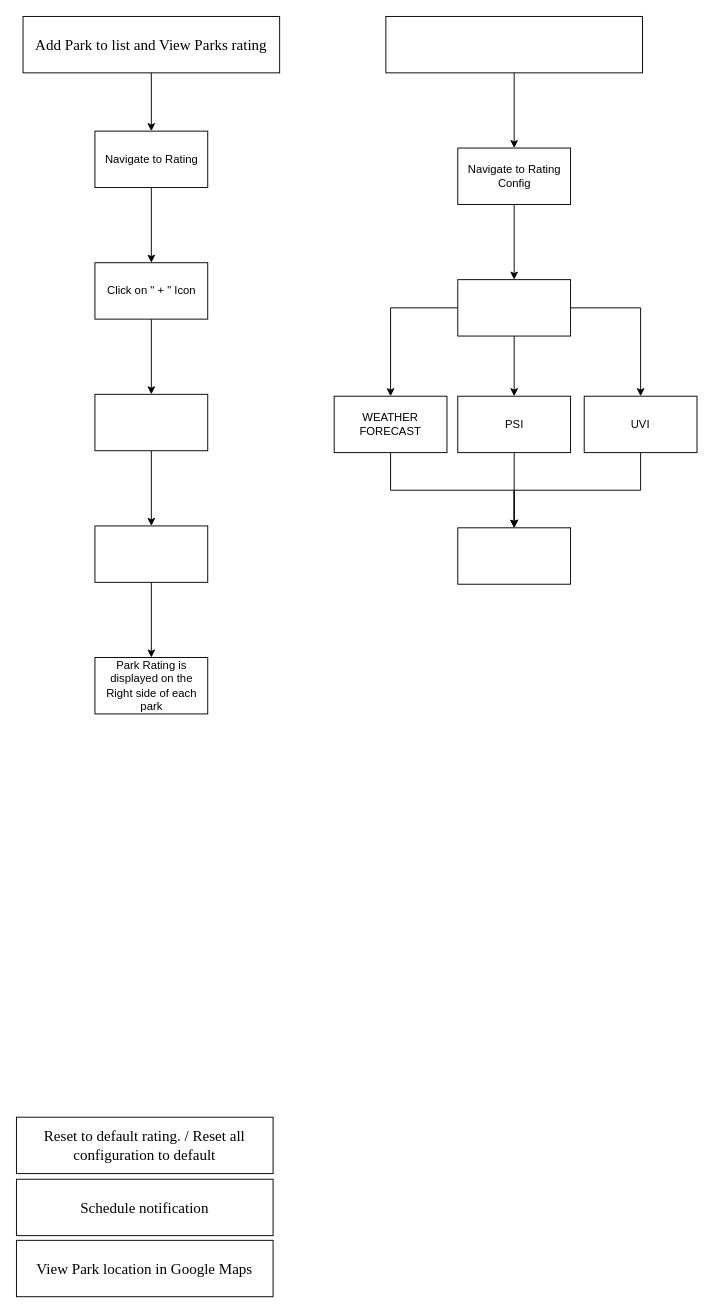
This 713x1313 diagram has some shape labels left out. The shapes that lost their labels are listed below. From the top down, each one's centre as x and y in pixels, then its label:
the point at 513,44: Configure rating thresholds
the point at 514,307: Click on either one of the categories
the point at 151,422: Select / Deslect the Parks you interest to view Rating
the point at 151,553: Click on " X" to close the pop out
the point at 514,555: Drag the dot left/right to set the Rating for that Specific condition
